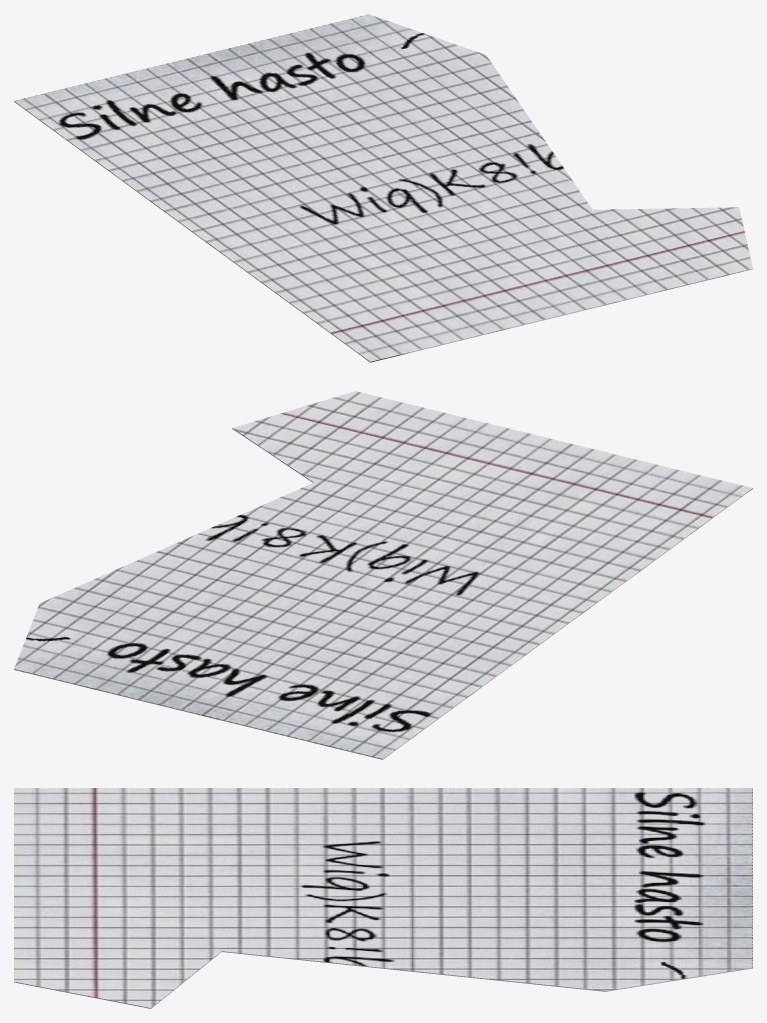
File: karteczka_1.fbx
3 renders of one model, top to bottom at view 1: azimuth 30°, elevation 25°; view 2: azimuth 150°, elevation 25°; view 3: azimuth 270°, elevation 25°, orthographic. The views are drawn at different scales.
Parts seen in each view (by area): view 1: Cube.001; view 2: Cube.001; view 3: Cube.001.
Part boxes in pixels (bbox=[...]): Cube.001: bbox=[14, 14, 752, 362]; Cube.001: bbox=[14, 391, 752, 759]; Cube.001: bbox=[14, 788, 752, 1008].
Bounding box in the file's own units: 141 × 0.253 × 200.
Materials: 1 (1 with a texture image).
